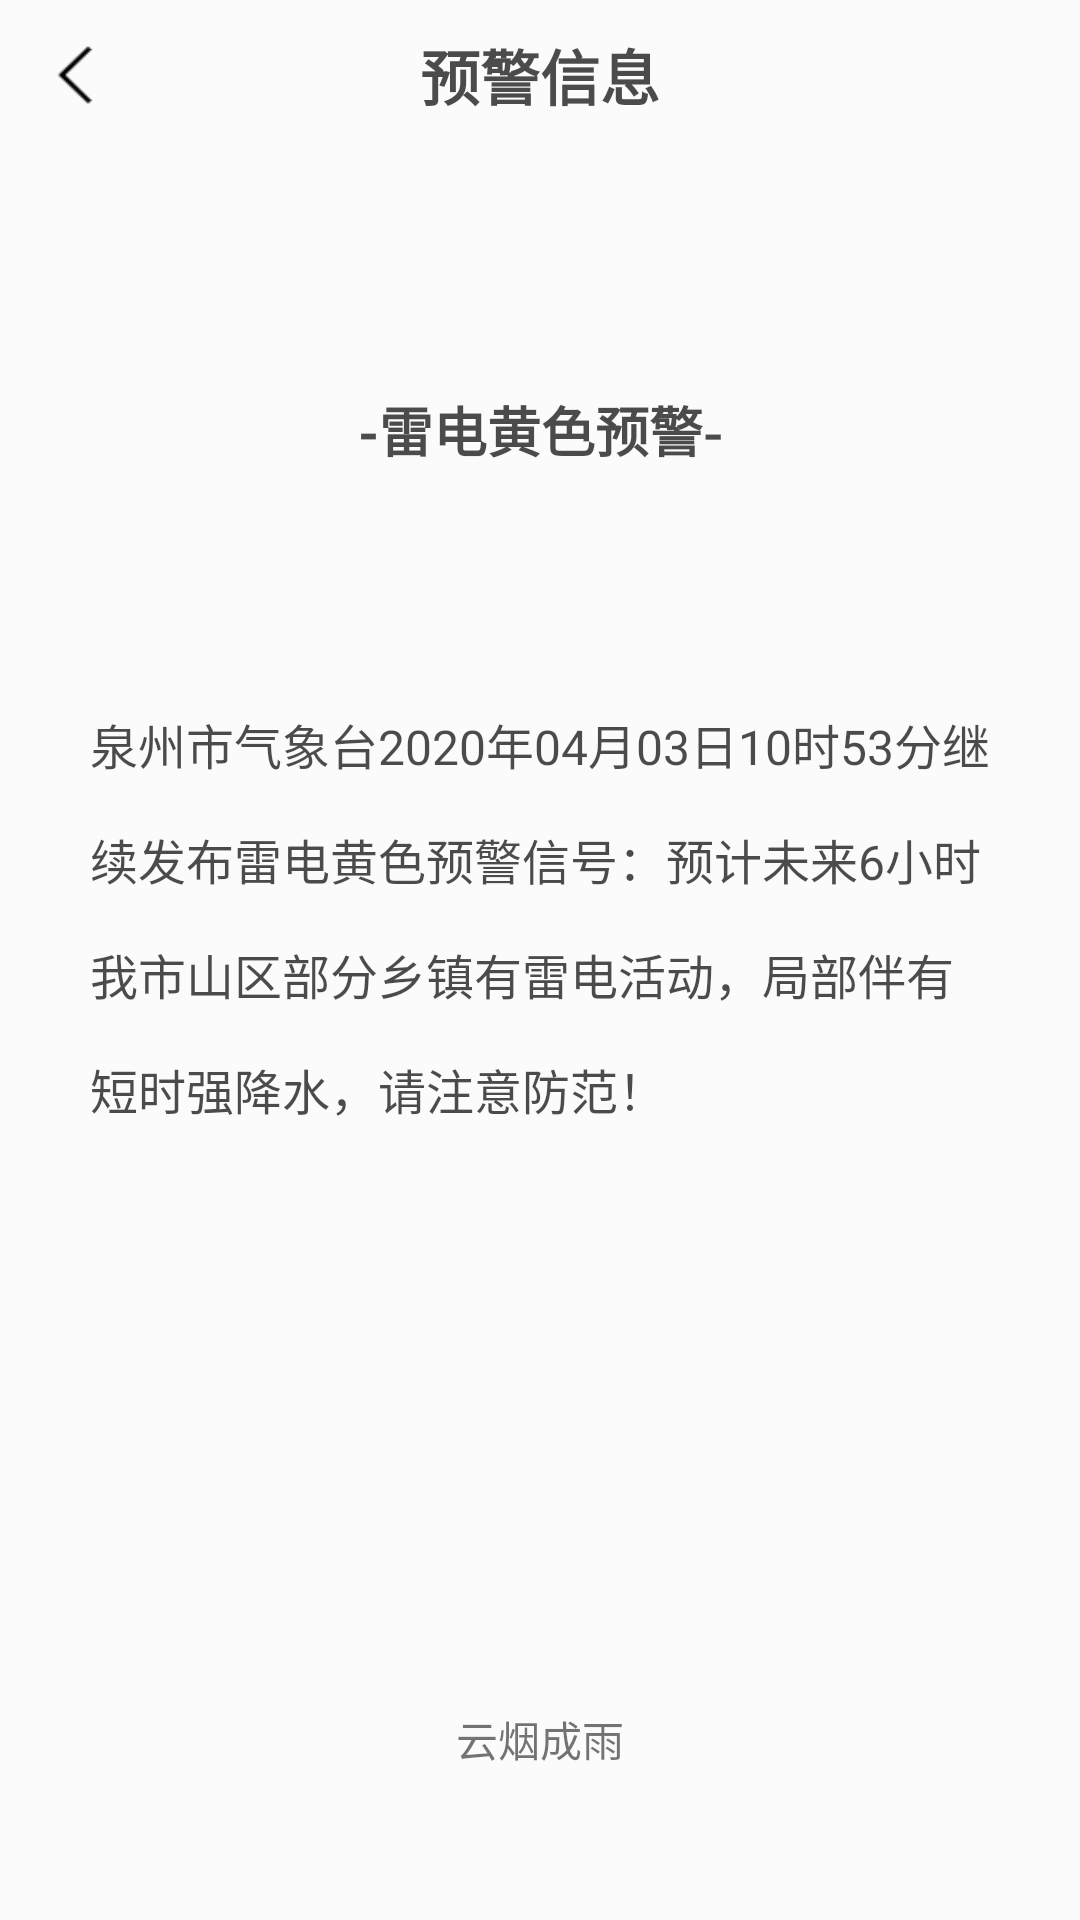

Icons on this 1080 x 1920 Android screen, each with the point to tap as point (x, y):
left arrow: point (75, 75)
